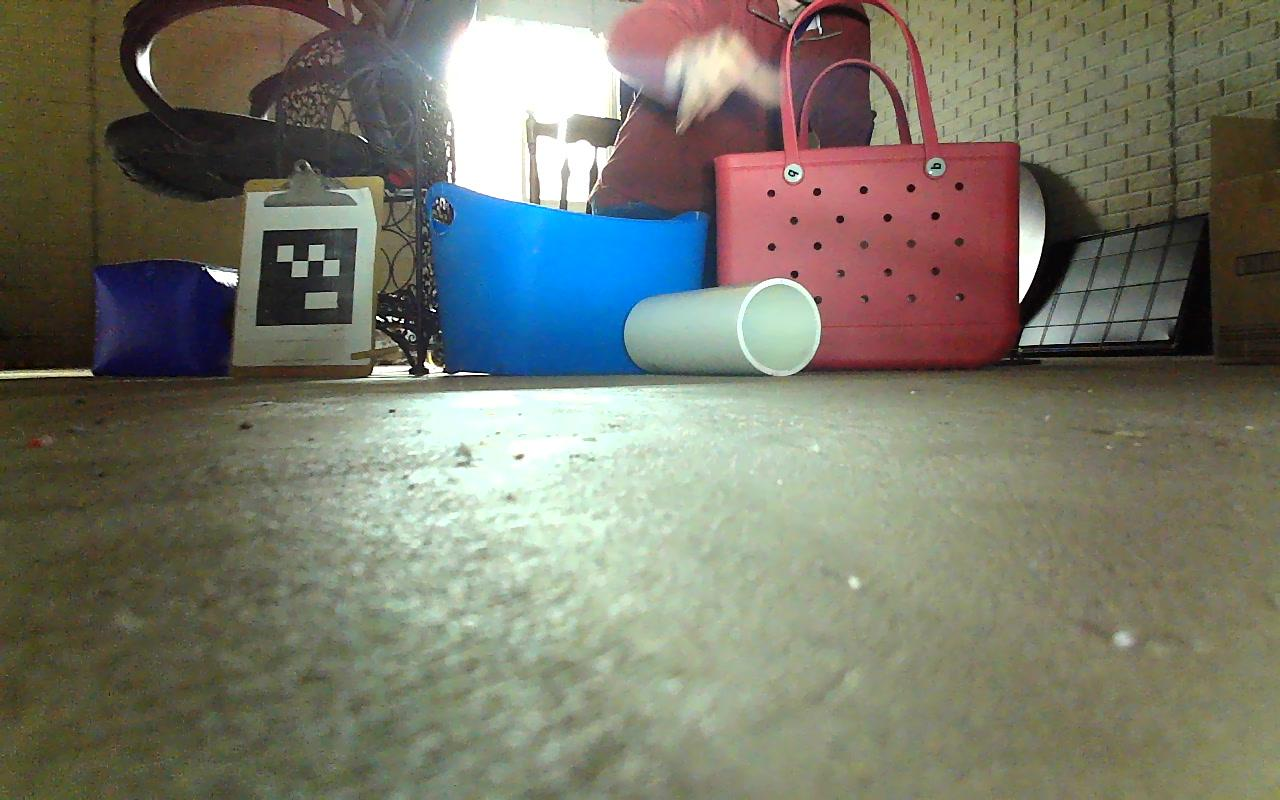coral: (624, 278, 821, 379)
